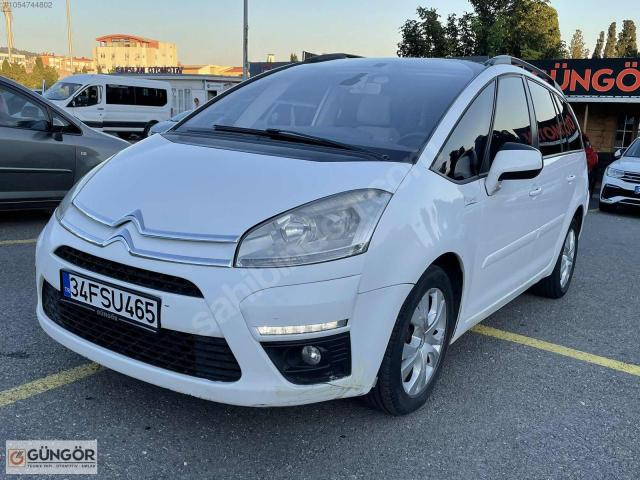plaka: (61, 271, 160, 330)
